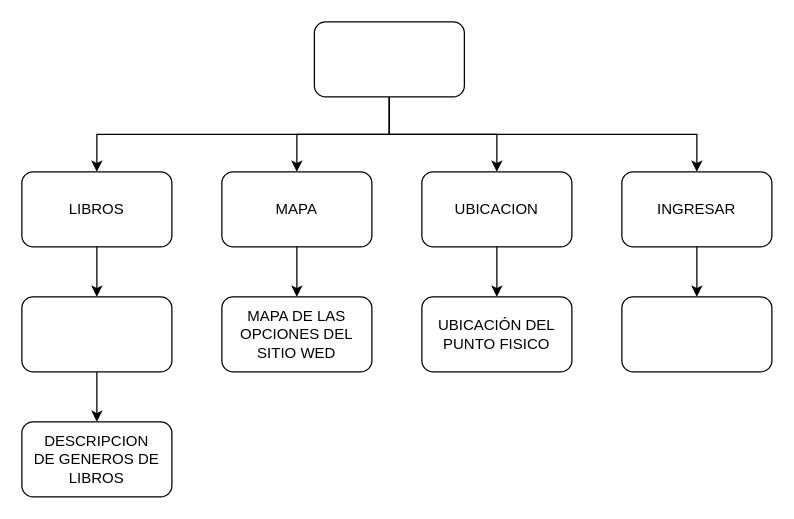
This 794x519 diagram has some shape labels left out. Each missing label, with the centre of its shape:
"GENEROS DE LIBROS" belongs at (x=96, y=334).
"INICIAR SESION" belongs at (x=696, y=334).
"SITIO WED" belongs at (x=388, y=59).
